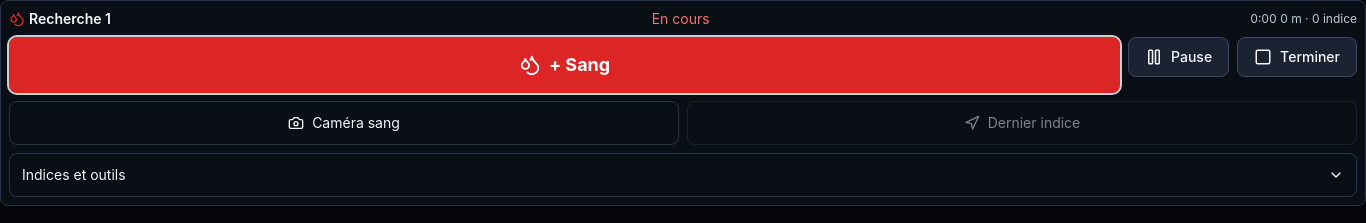
BloodPanel › pause becomes Reprendre
Click the button with aria-label "Mettre la recherche en pause" at (1179, 57), box [1128,37,1229,77]
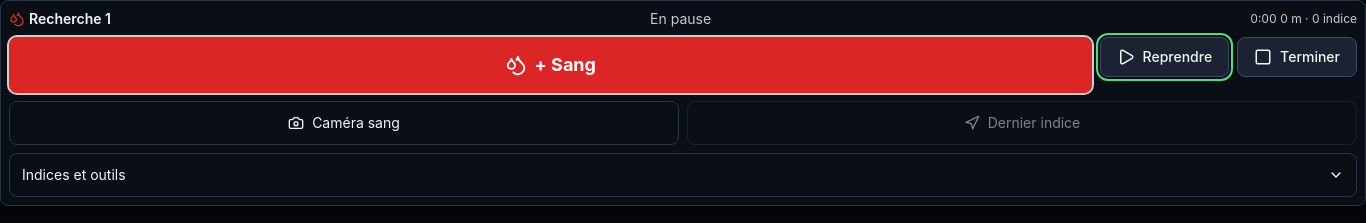
Check: the text with test id "blood-status" reads "En pause", box [650,10,711,27]
Click the button with aria-label "Reprendre la recherche" at (1164, 57), box [1100,37,1229,77]
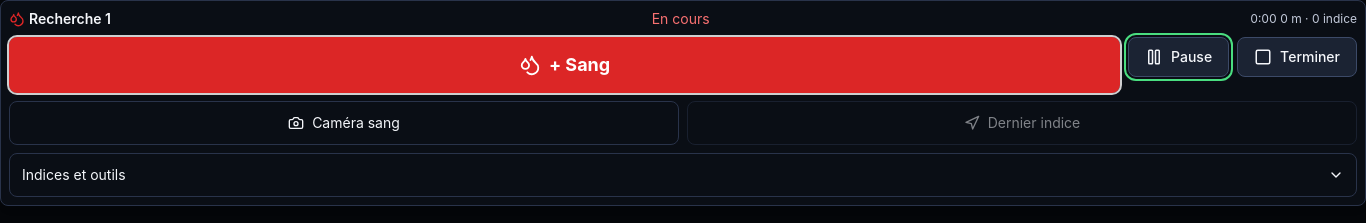
Check: the text with test id "blood-status" reads "En cours", box [652,10,710,27]
